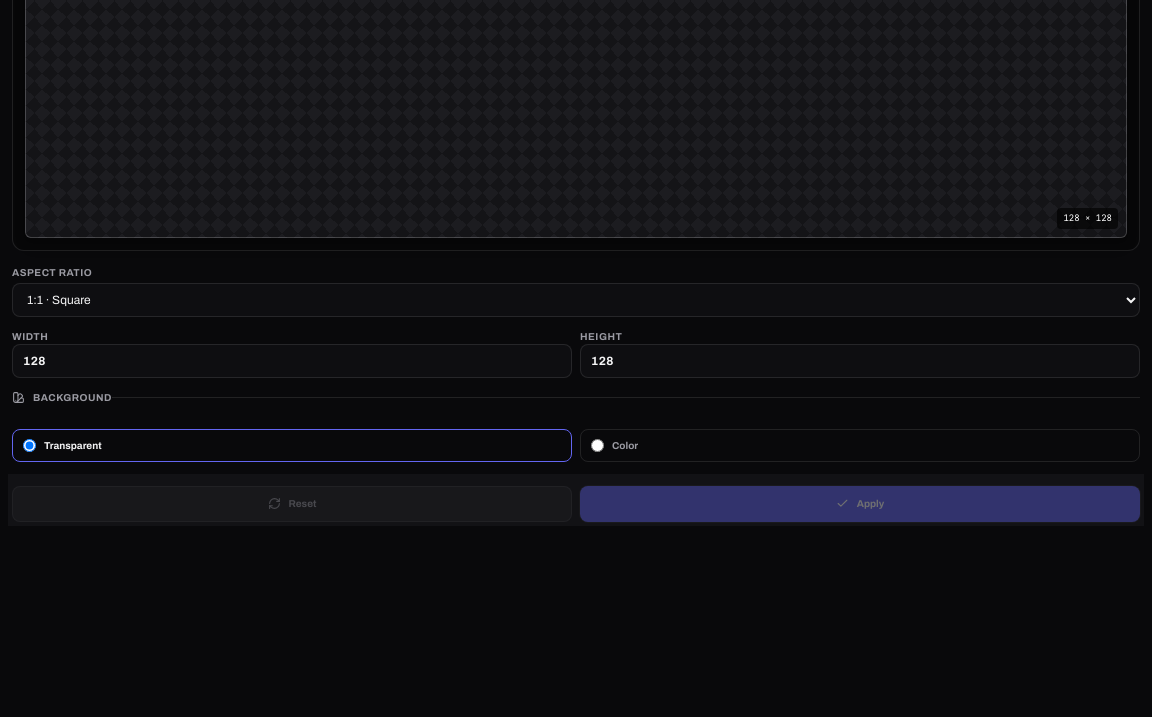
it: CompositionCanvasSettingsInspector › falls back safely when requestAnimationFrame throws
(page scrolled)
Replace the text in the field labelled "Width" with "256". click: point(292, 360)
box: [12,344,572,378]
(page scrolled)
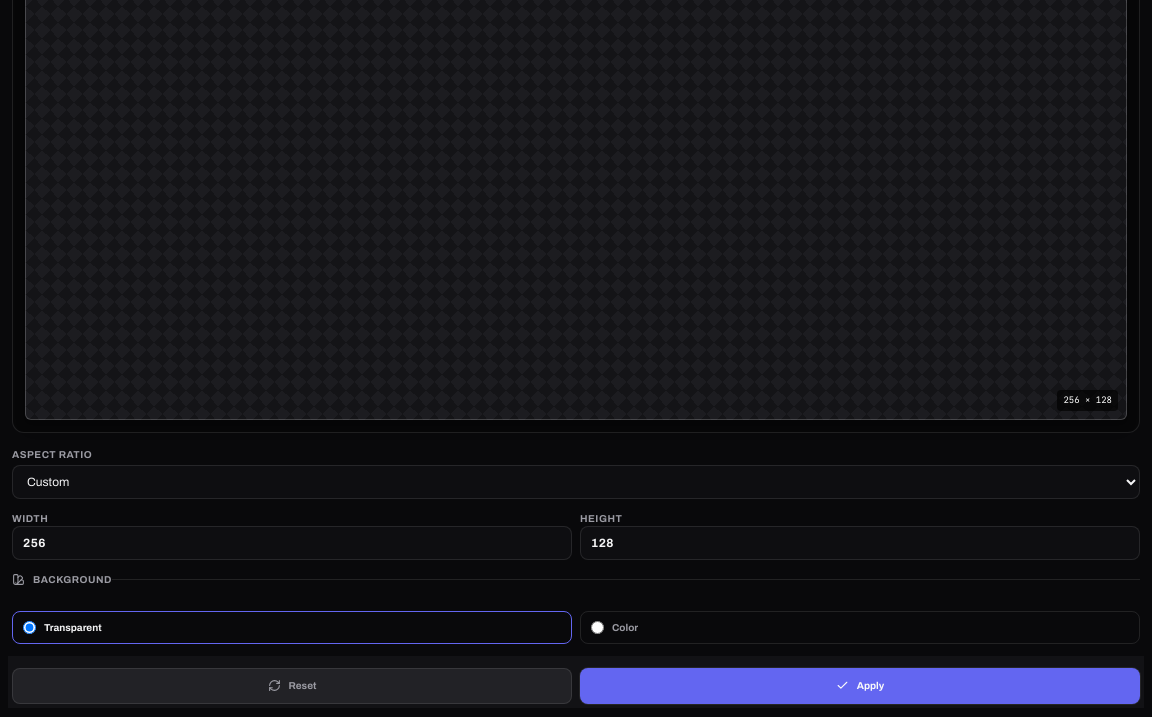
Click the button "Apply". click: point(860, 686)
box: [580,668,1140,704]
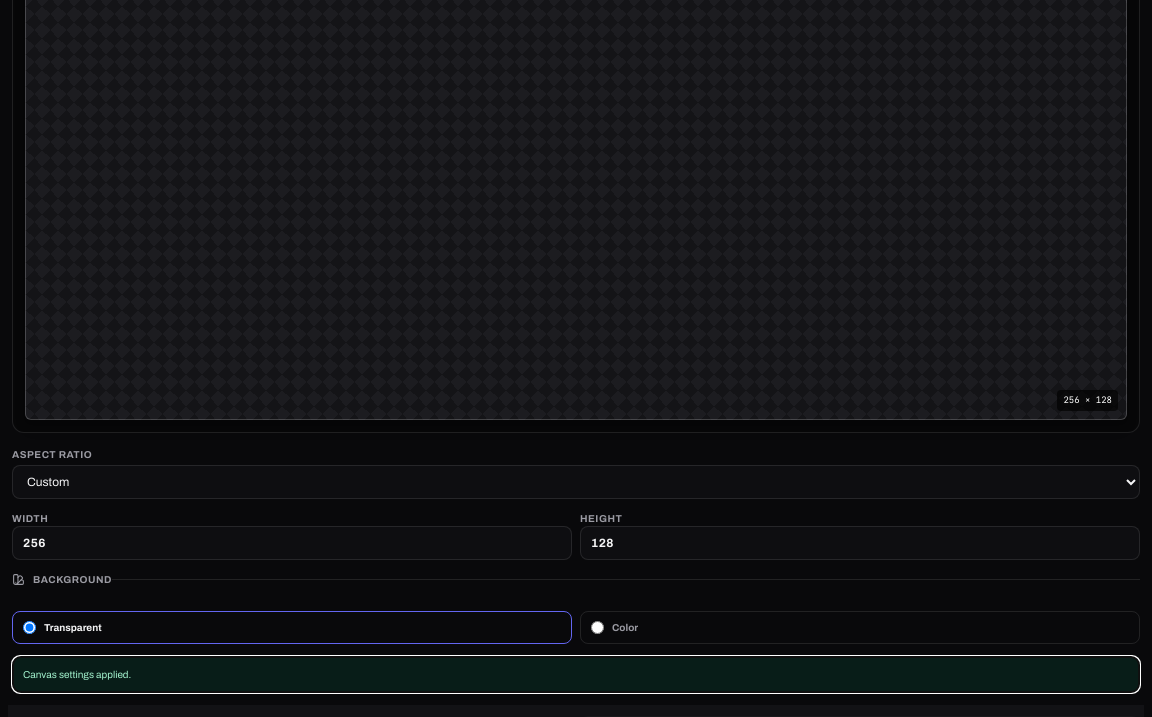
Expected: the message does not show "PRIVATE", [12,656,1140,692]
Expected: the message shows "applied", [23,668,131,680]
